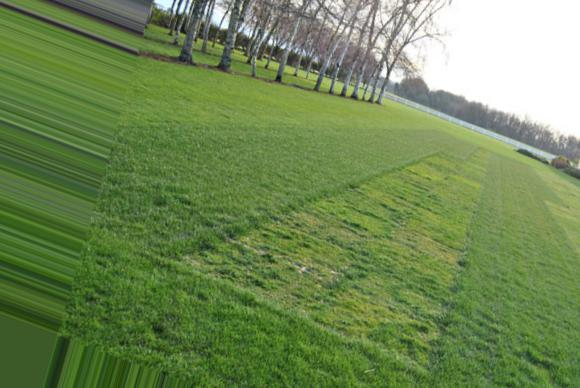patch: (278, 248, 335, 290)
